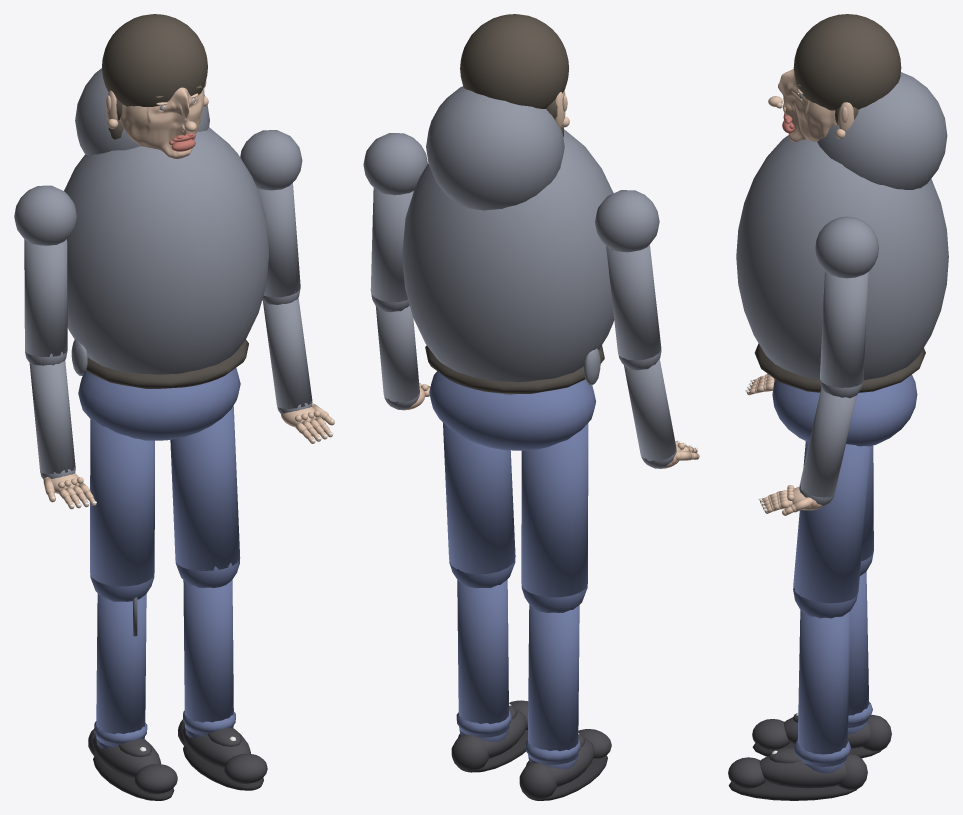
The model's file is hm_ped_noah_v8.glb.
3 renders of one model, left to right at view 1: azimuth 30°, elevation 25°; view 2: azimuth 150°, elevation 25°; view 3: azimuth 270°, elevation 25°, orthographic. The views are drawn at different scales.
Parts seen in each view (by area): view 1: hm_ped_noah; view 2: hm_ped_noah; view 3: hm_ped_noah.
Part boxes in pixels (x1,y1,x2,y2): hm_ped_noah: (14,14,334,800); hm_ped_noah: (363,14,699,800); hm_ped_noah: (728,14,948,800).
Size of the model in its own units: 0.7466 by 1.83 by 0.4848.
